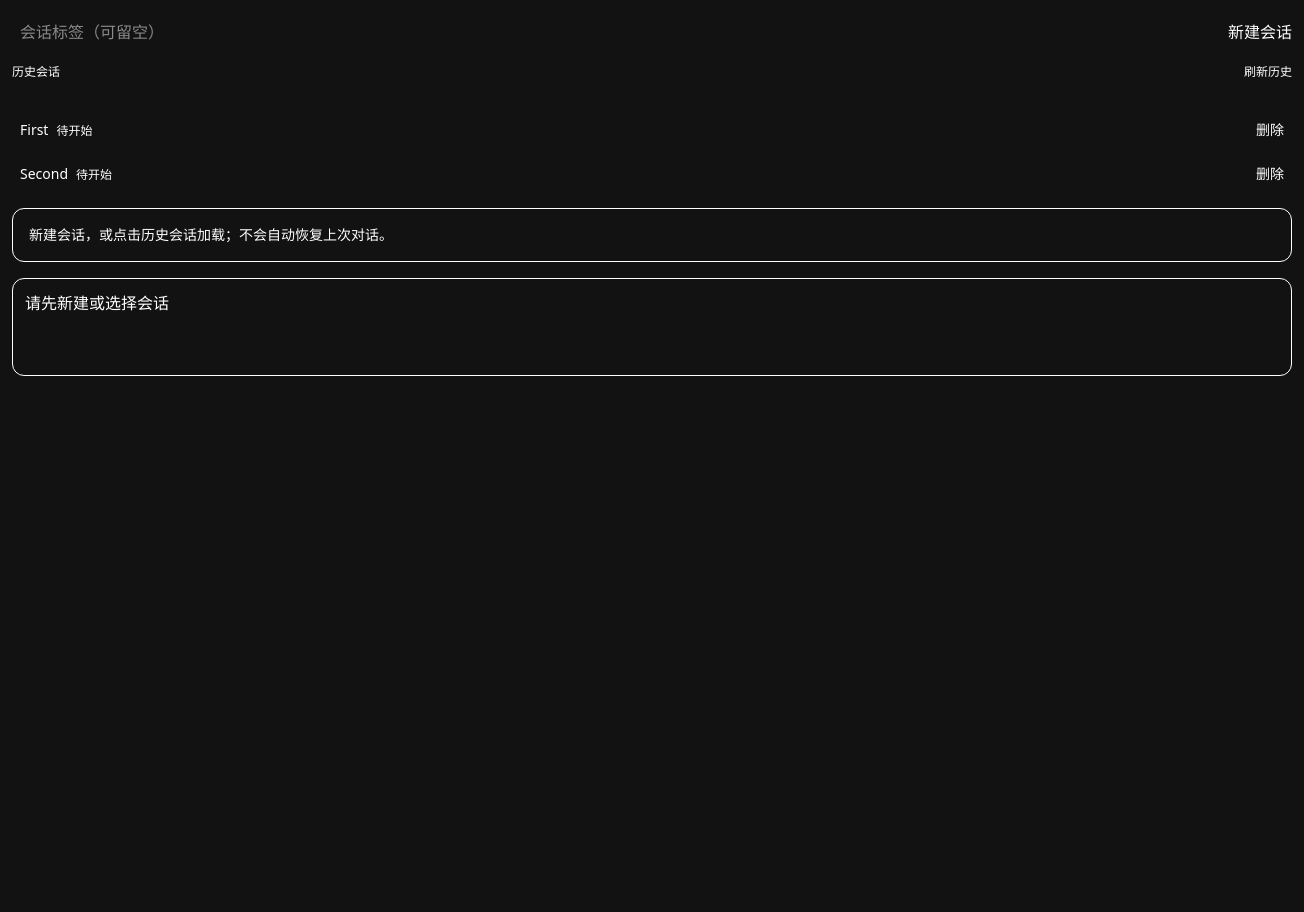
Test case: loads summaries without automatically opening history, then opens only when selected
The width and height of the screenshot is (1304, 912).
Click the button "First待开始" at [74, 130], box 20,120 -> 1248,140
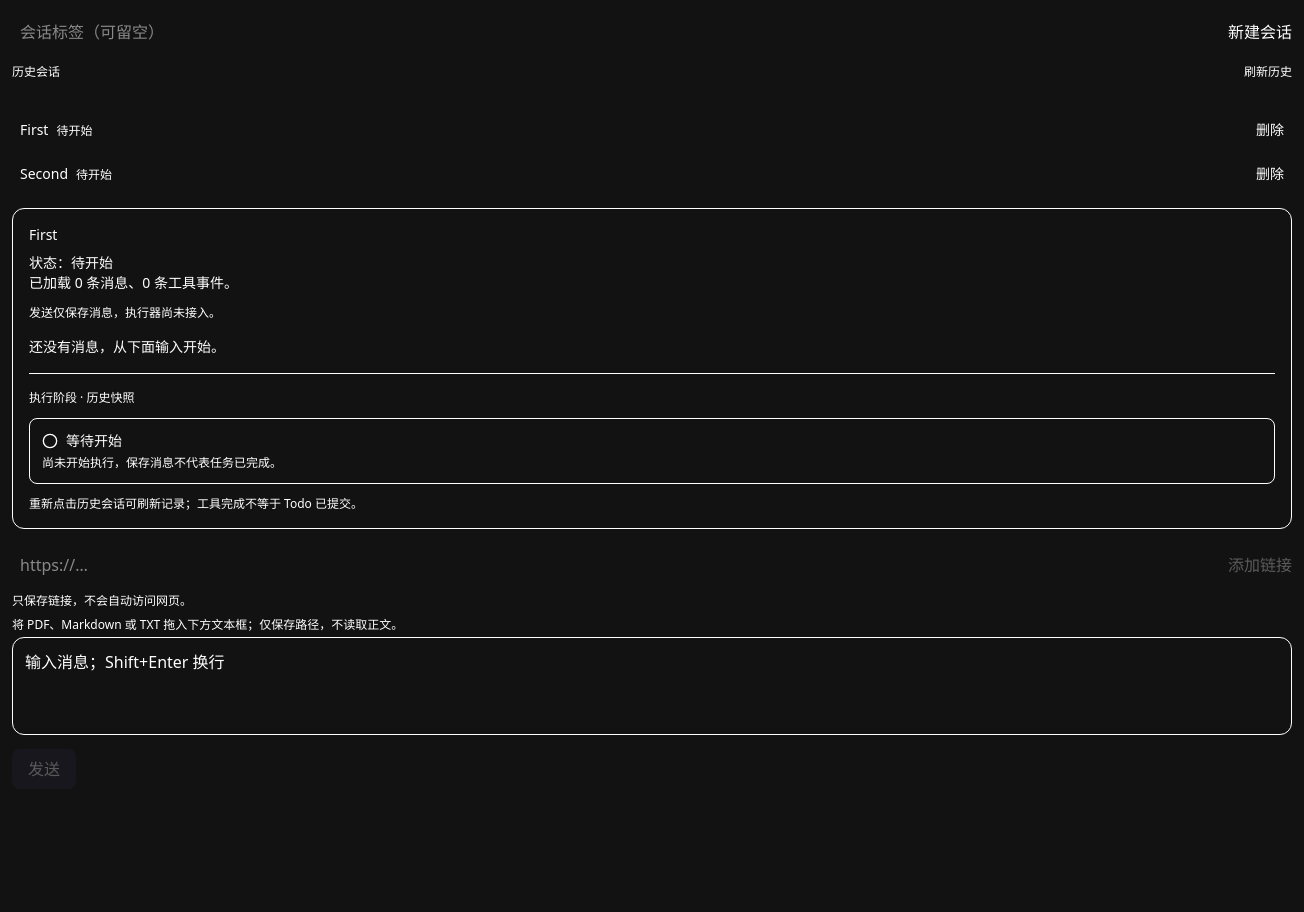
Expected: the heading "First" is shown, 29,225 -> 57,244
Expected: the text "已加载 0 条消息、0 条工具事件。" is shown, 29,273 -> 238,292
Expected: the element "执行阶段" is shown, 29,373 -> 1275,512
